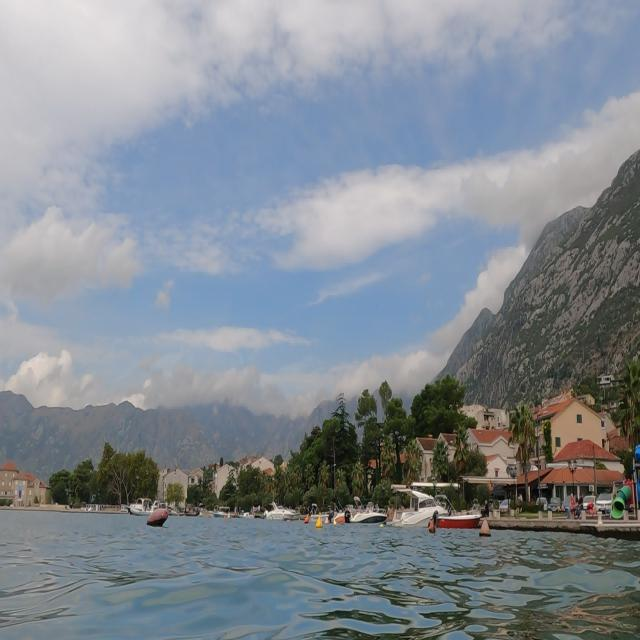boat: (387, 474, 465, 536), (327, 490, 397, 543), (432, 484, 484, 534), (256, 499, 306, 540)
buoy: (145, 508, 176, 536), (478, 514, 496, 546)
